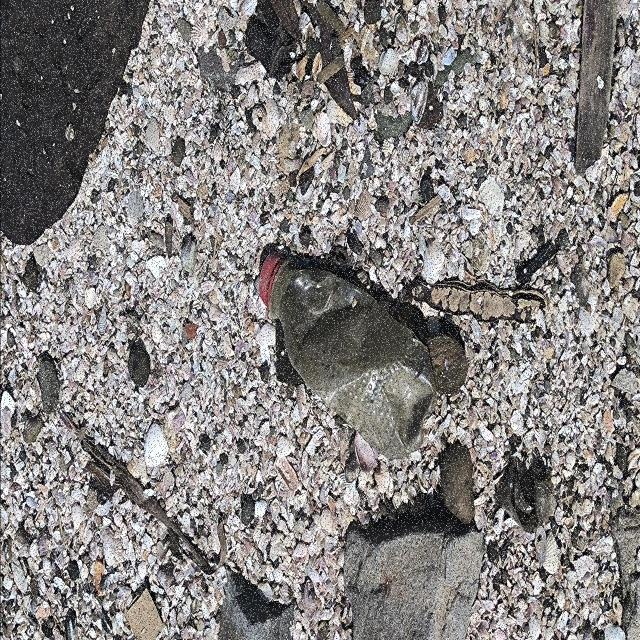plastic_waste: (257, 248, 439, 463)
